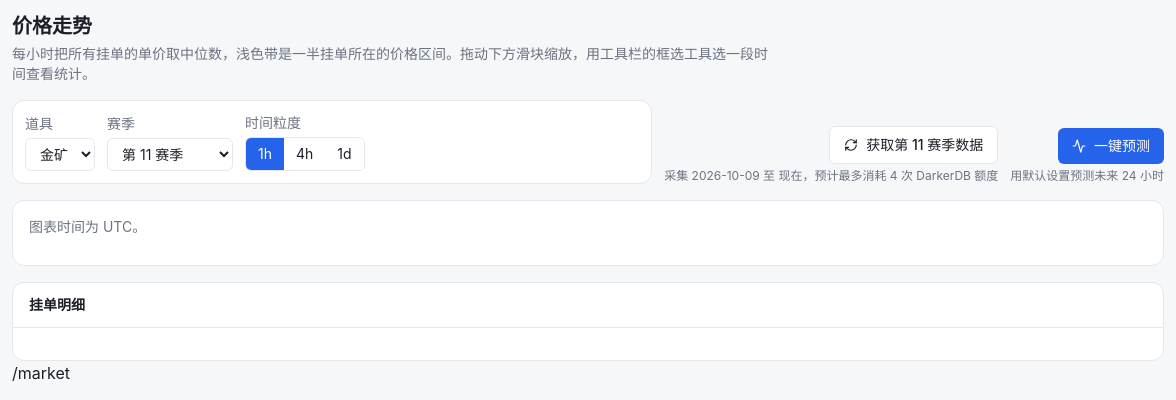
Test case: starts a default forecast for the shown item and season, then opens it on the item page
What coordinates should you click on to do the following:
click the button "一键预测"
I would click on:
 (1111, 146)
Its box is left=1058, top=128, right=1164, bottom=164.
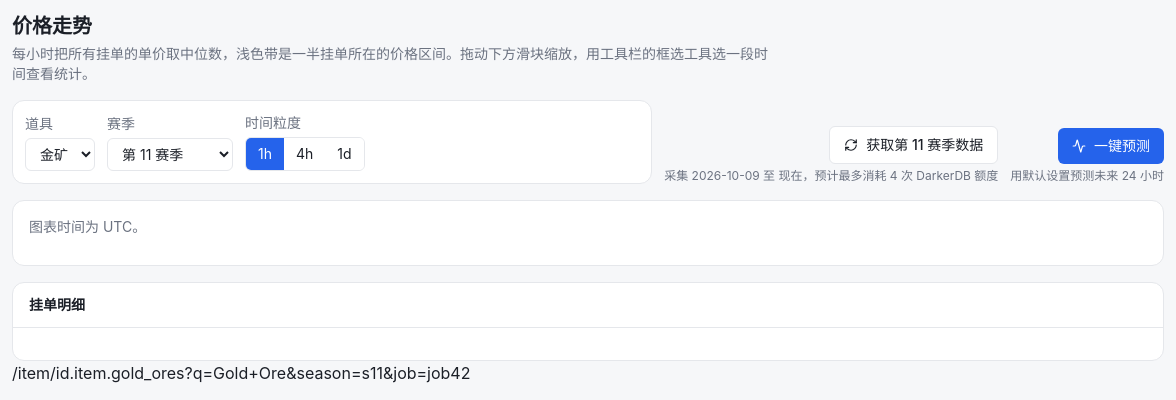
Expected: the text with test id "url" reads "/item/id.item.gold_ores?q=Gold+Ore&season=s11&job=job42", left=12, top=363, right=470, bottom=383
